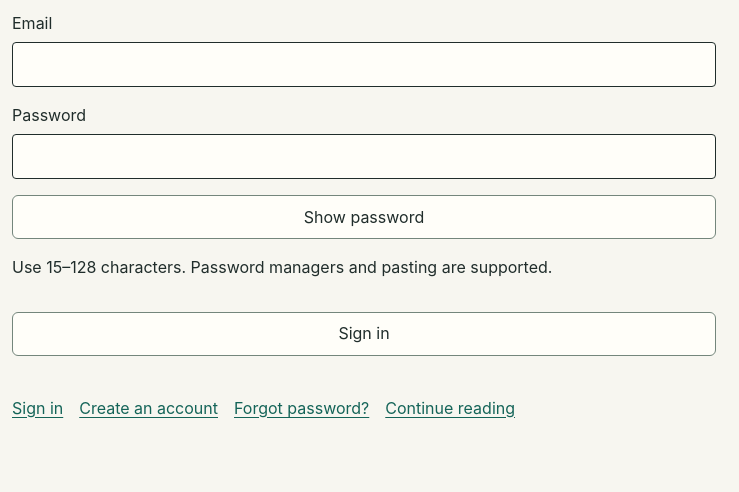
Test: account forms › supports keyboard password reveal and announces a failed login
The width and height of the screenshot is (739, 492).
In the field labelled "Email": (364, 65) [12,42,716,87], type "reader@example.invalid"
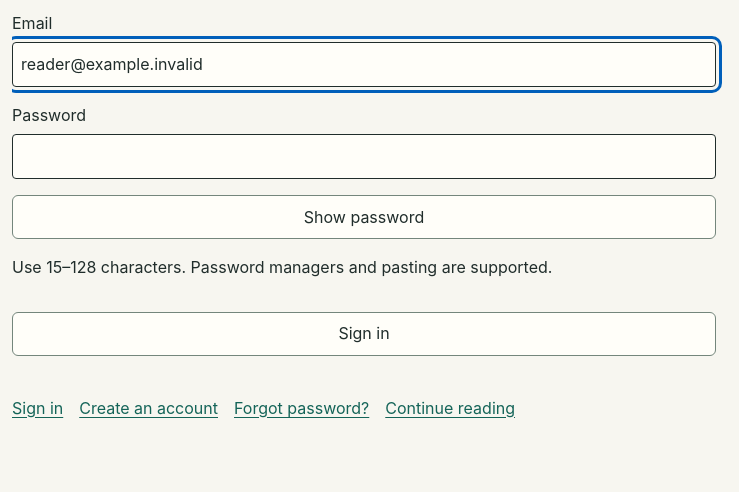
In the password field labelled "Password": (364, 157) [12,134,716,179], type "A long memorable password"
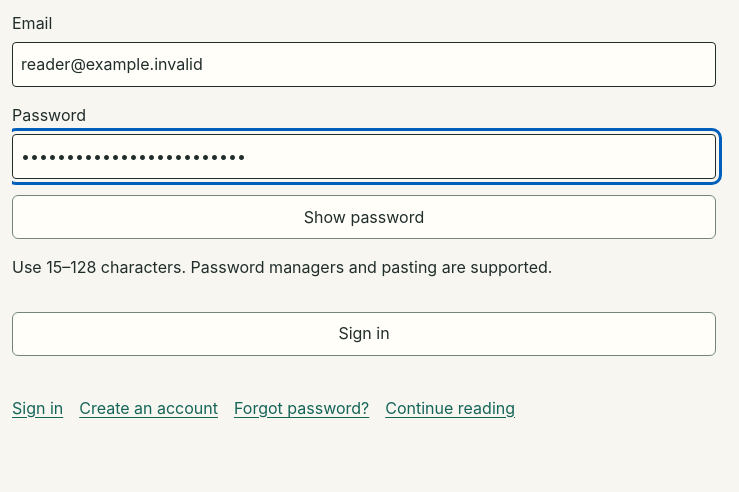
Press Tab
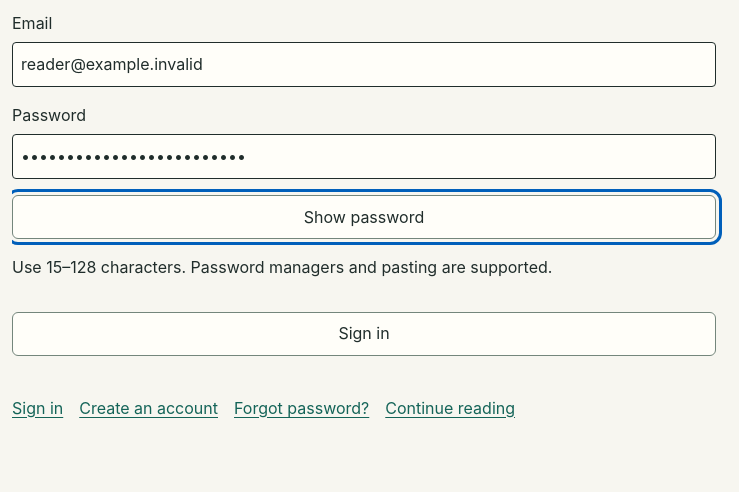
Press Enter
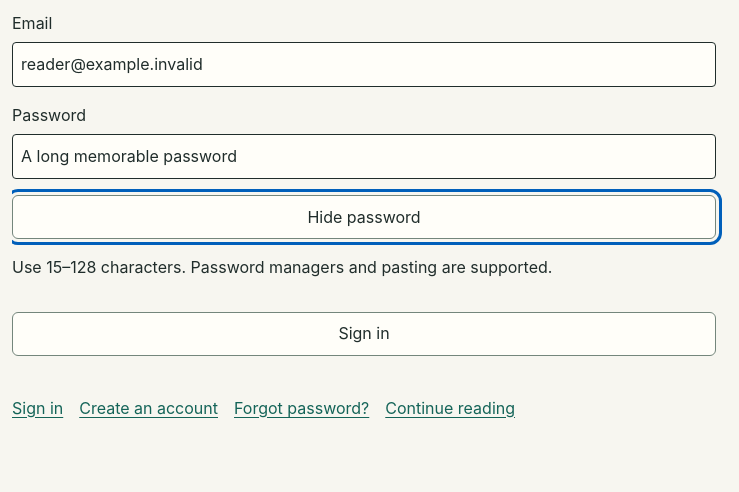
expect the field labelled "Password" shows its text: met, box [12,134,716,179]
Click the button "Sign in": (364, 334) [12,312,716,356]
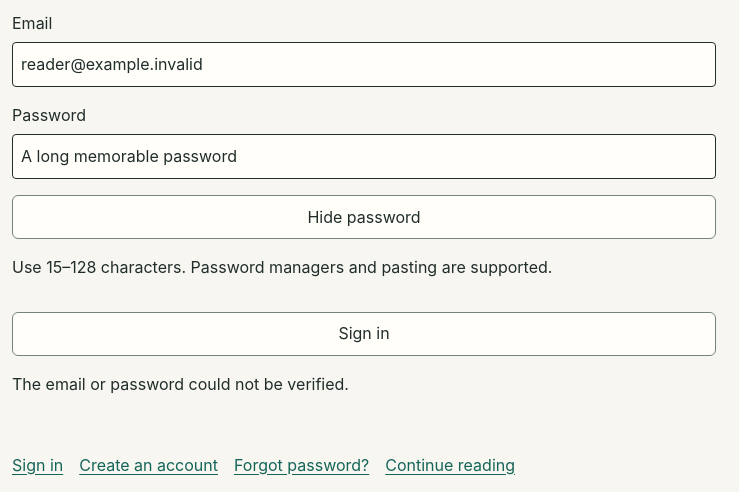
expect the message shows "could not be verified": met, box [12,374,349,394]
